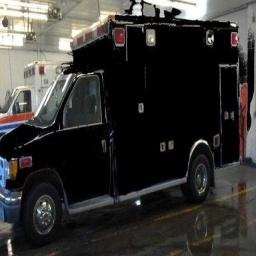Ambulance: (0, 15, 238, 244), (0, 61, 61, 135)
